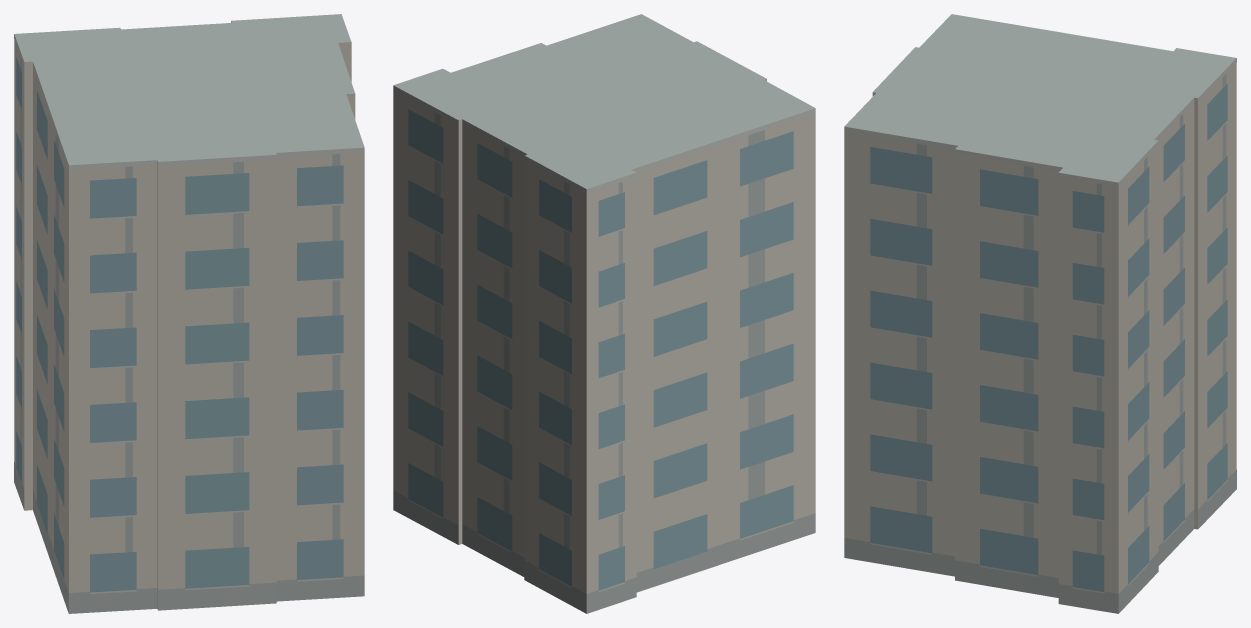
Rendered from survey-upis-32784009.glb.
3 views of the same model, side by side, from view 1: azimuth 30°, elevation 25°; view 2: azimuth 150°, elevation 25°; view 3: azimuth 270°, elevation 25° (orthographic). The views are drawn at different scales.
Visible parts, largest first — view 1: survey-upis-32784009.tmp; view 2: survey-upis-32784009.tmp; view 3: survey-upis-32784009.tmp.
Boxes of the visible parts, bbox=[...] form: survey-upis-32784009.tmp: bbox=[14, 14, 364, 613]; survey-upis-32784009.tmp: bbox=[393, 14, 815, 613]; survey-upis-32784009.tmp: bbox=[844, 14, 1236, 613].
Size of the model in its own units: 18.58 by 22.15 by 18.28.
